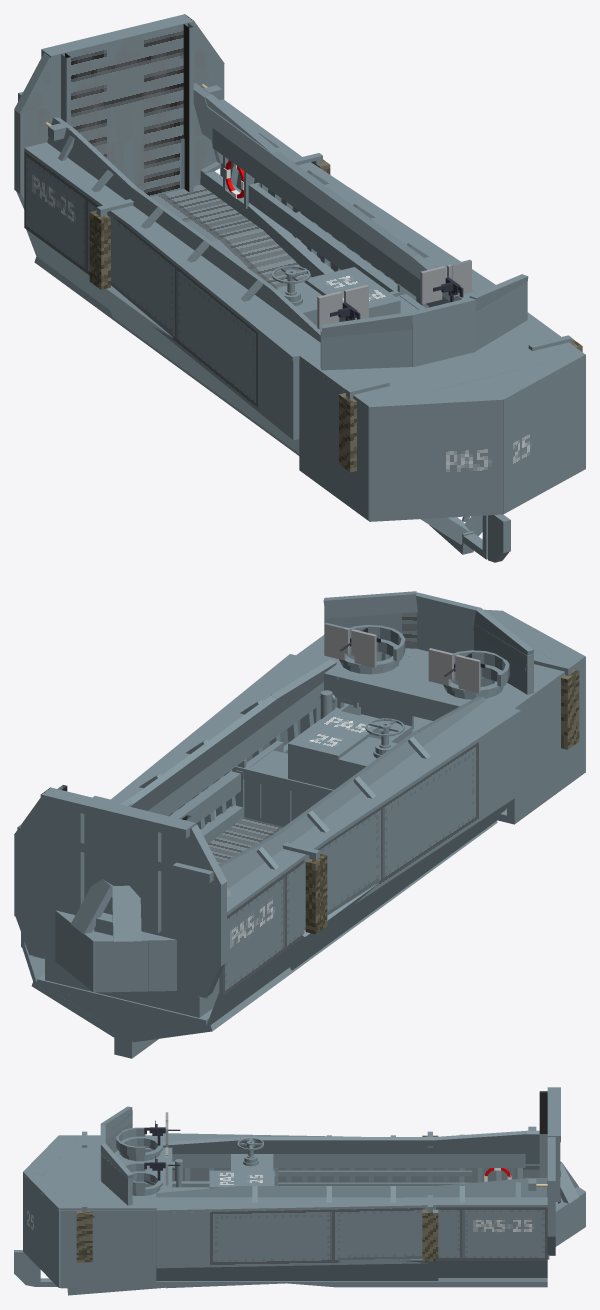
Rendered from u.s._navy_higgins_boat__lcvp.glb.
3 views of the same model, one above another, from view 1: azimuth 30°, elevation 25°; view 2: azimuth 150°, elevation 25°; view 3: azimuth 270°, elevation 25° (orthographic). The views are drawn at different scales.
Visible parts, largest first — view 1: 399fb805-e888-65bb-59a7-9df190ecc5b4_79, a7191708-29d7-7025-053d-d39b8521d2ee_103, c9c5a0e5-a953-6e10-7626-6154606123b3_144, c7ec21bd-3980-0b55-315e-9739350227d7_152, a5933e05-c4d1-398c-ddfd-11f6ac393f37_104, 94eaac29-9100-b36e-b882-a7cd0cf05201_146, 43d82576-1b6c-6ce1-3d6e-c7850f331dc9_245, 65928bd5-7c20-a737-7194-c78d006a672c_354, 32ab1a10-0c54-8299-b391-ce755843b7d6_209, c648f2d4-5b9c-283c-0b81-8d36893c6e82_342, 3985e849-1165-aa1b-ee70-06e359158448_495, 866a2d3c-b289-f415-92c3-12ef1270da3c_150 (+32 smaller); view 2: c9c5a0e5-a953-6e10-7626-6154606123b3_144, 399fb805-e888-65bb-59a7-9df190ecc5b4_79, a5933e05-c4d1-398c-ddfd-11f6ac393f37_104, 94eaac29-9100-b36e-b882-a7cd0cf05201_146, 43d82576-1b6c-6ce1-3d6e-c7850f331dc9_245, 24921d6a-a3a0-fbc0-dd3a-3defe7e15f74_87, 866a2d3c-b289-f415-92c3-12ef1270da3c_150, 5fde84b1-2cf8-82c9-d573-acea20eb8809_246, 3985e849-1165-aa1b-ee70-06e359158448_495, 65928bd5-7c20-a737-7194-c78d006a672c_354, c648f2d4-5b9c-283c-0b81-8d36893c6e82_342, 2a26f820-161b-a233-8a8f-9f6b5ffeddf9_95 (+47 smaller); view 3: eaa0e07d-6c6f-fb10-601d-3cf6314f74d6_145, 6b147397-e064-9282-6173-720a1092820a_105, b602e84d-bc62-d67b-70a7-3ebc38d1b830_147, 7da5e358-cb70-64dd-5d3d-04639b866bf1_151, 3985e849-1165-aa1b-ee70-06e359158448_495, 4b4a90b0-99f4-0e3c-a8df-ecda835f0eed_474, 5fde84b1-2cf8-82c9-d573-acea20eb8809_246, c7ec21bd-3980-0b55-315e-9739350227d7_152, 65928bd5-7c20-a737-7194-c78d006a672c_354, 32ab1a10-0c54-8299-b391-ce755843b7d6_209, 61035b72-2cc3-22ac-5b16-c6d53940c6a3_244, a22539c0-2a6d-7f13-50dd-ef40a2dc5956_149 (+39 smaller).
Part boxes in pixels (x1,y1,x2,y2): 399fb805-e888-65bb-59a7-9df190ecc5b4_79: (45,17,194,196); a7191708-29d7-7025-053d-d39b8521d2ee_103: (369,403,503,521); c9c5a0e5-a953-6e10-7626-6154606123b3_144: (107,212,299,440); c7ec21bd-3980-0b55-315e-9739350227d7_152: (503,358,585,514); a5933e05-c4d1-398c-ddfd-11f6ac393f37_104: (299,359,368,520); 94eaac29-9100-b36e-b882-a7cd0cf05201_146: (24,151,99,275); 43d82576-1b6c-6ce1-3d6e-c7850f331dc9_245: (112,205,315,360); 65928bd5-7c20-a737-7194-c78d006a672c_354: (207,106,418,277); 32ab1a10-0c54-8299-b391-ce755843b7d6_209: (358,334,543,392); c648f2d4-5b9c-283c-0b81-8d36893c6e82_342: (212,128,449,306); 3985e849-1165-aa1b-ee70-06e359158448_495: (64,139,277,303); 866a2d3c-b289-f415-92c3-12ef1270da3c_150: (102,285,299,453); c9c5a0e5-a953-6e10-7626-6154606123b3_144: (304,714,520,930); 399fb805-e888-65bb-59a7-9df190ecc5b4_79: (44,787,195,993); a5933e05-c4d1-398c-ddfd-11f6ac393f37_104: (507,661,584,824); 94eaac29-9100-b36e-b882-a7cd0cf05201_146: (219,859,304,996); 43d82576-1b6c-6ce1-3d6e-c7850f331dc9_245: (282,704,520,855); 24921d6a-a3a0-fbc0-dd3a-3defe7e15f74_87: (94,935,176,992); 866a2d3c-b289-f415-92c3-12ef1270da3c_150: (290,803,506,970); 5fde84b1-2cf8-82c9-d573-acea20eb8809_246: (111,654,313,802); 3985e849-1165-aa1b-ee70-06e359158448_495: (224,732,423,888); 65928bd5-7c20-a737-7194-c78d006a672c_354: (129,695,276,810); c648f2d4-5b9c-283c-0b81-8d36893c6e82_342: (148,682,323,815); 2a26f820-161b-a233-8a8f-9f6b5ffeddf9_95: (189,878,226,966); eaa0e07d-6c6f-fb10-601d-3cf6314f74d6_145: (156,1207,435,1268); 6b147397-e064-9282-6173-720a1092820a_105: (60,1210,156,1288); b602e84d-bc62-d67b-70a7-3ebc38d1b830_147: (436,1207,547,1260); 7da5e358-cb70-64dd-5d3d-04639b866bf1_151: (156,1259,438,1280); 3985e849-1165-aa1b-ee70-06e359158448_495: (241,1137,525,1153); 4b4a90b0-99f4-0e3c-a8df-ecda835f0eed_474: (172,1154,525,1167); 5fde84b1-2cf8-82c9-d573-acea20eb8809_246: (156,1197,435,1212); c7ec21bd-3980-0b55-315e-9739350227d7_152: (23,1174,60,1287); 65928bd5-7c20-a737-7194-c78d006a672c_354: (241,1186,525,1197); 32ab1a10-0c54-8299-b391-ce755843b7d6_209: (60,1145,118,1194); 61035b72-2cc3-22ac-5b16-c6d53940c6a3_244: (156,1197,547,1207); a22539c0-2a6d-7f13-50dd-ef40a2dc5956_149: (438,1260,547,1277).
Size of the model in its own units: 1.06 by 1.14 by 3.24.
Materials: 1 (1 with a texture image).
